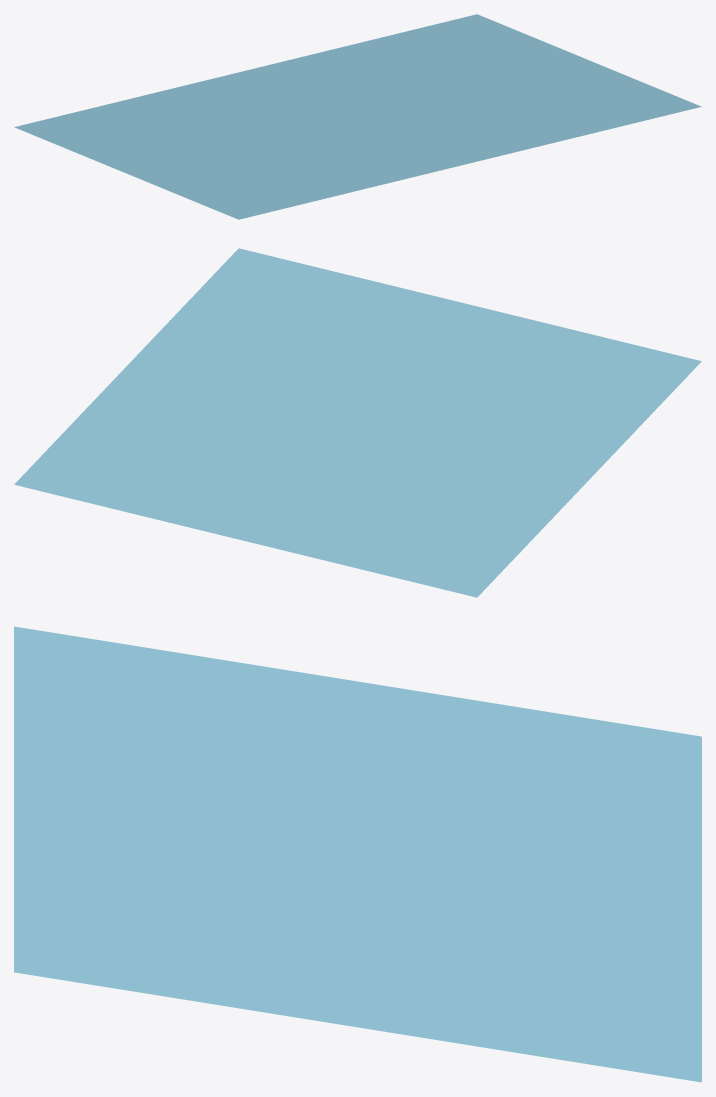
The model's file is ConsoleMatOpposite.FBX.
3 renders of one model, top to bottom at view 1: azimuth 30°, elevation 25°; view 2: azimuth 150°, elevation 25°; view 3: azimuth 270°, elevation 25°, orthographic. The views are drawn at different scales.
Visible parts, largest first — view 1: ConsoleMatFront; view 2: ConsoleMatFront; view 3: ConsoleMatFront.
Boxes of the visible parts, box(x1,y1,x2,y2) form: ConsoleMatFront: box(14, 14, 701, 219); ConsoleMatFront: box(14, 248, 701, 597); ConsoleMatFront: box(14, 626, 701, 1082).
Size of the model in its own units: 0.5 by 0.0742 by 0.4203.
